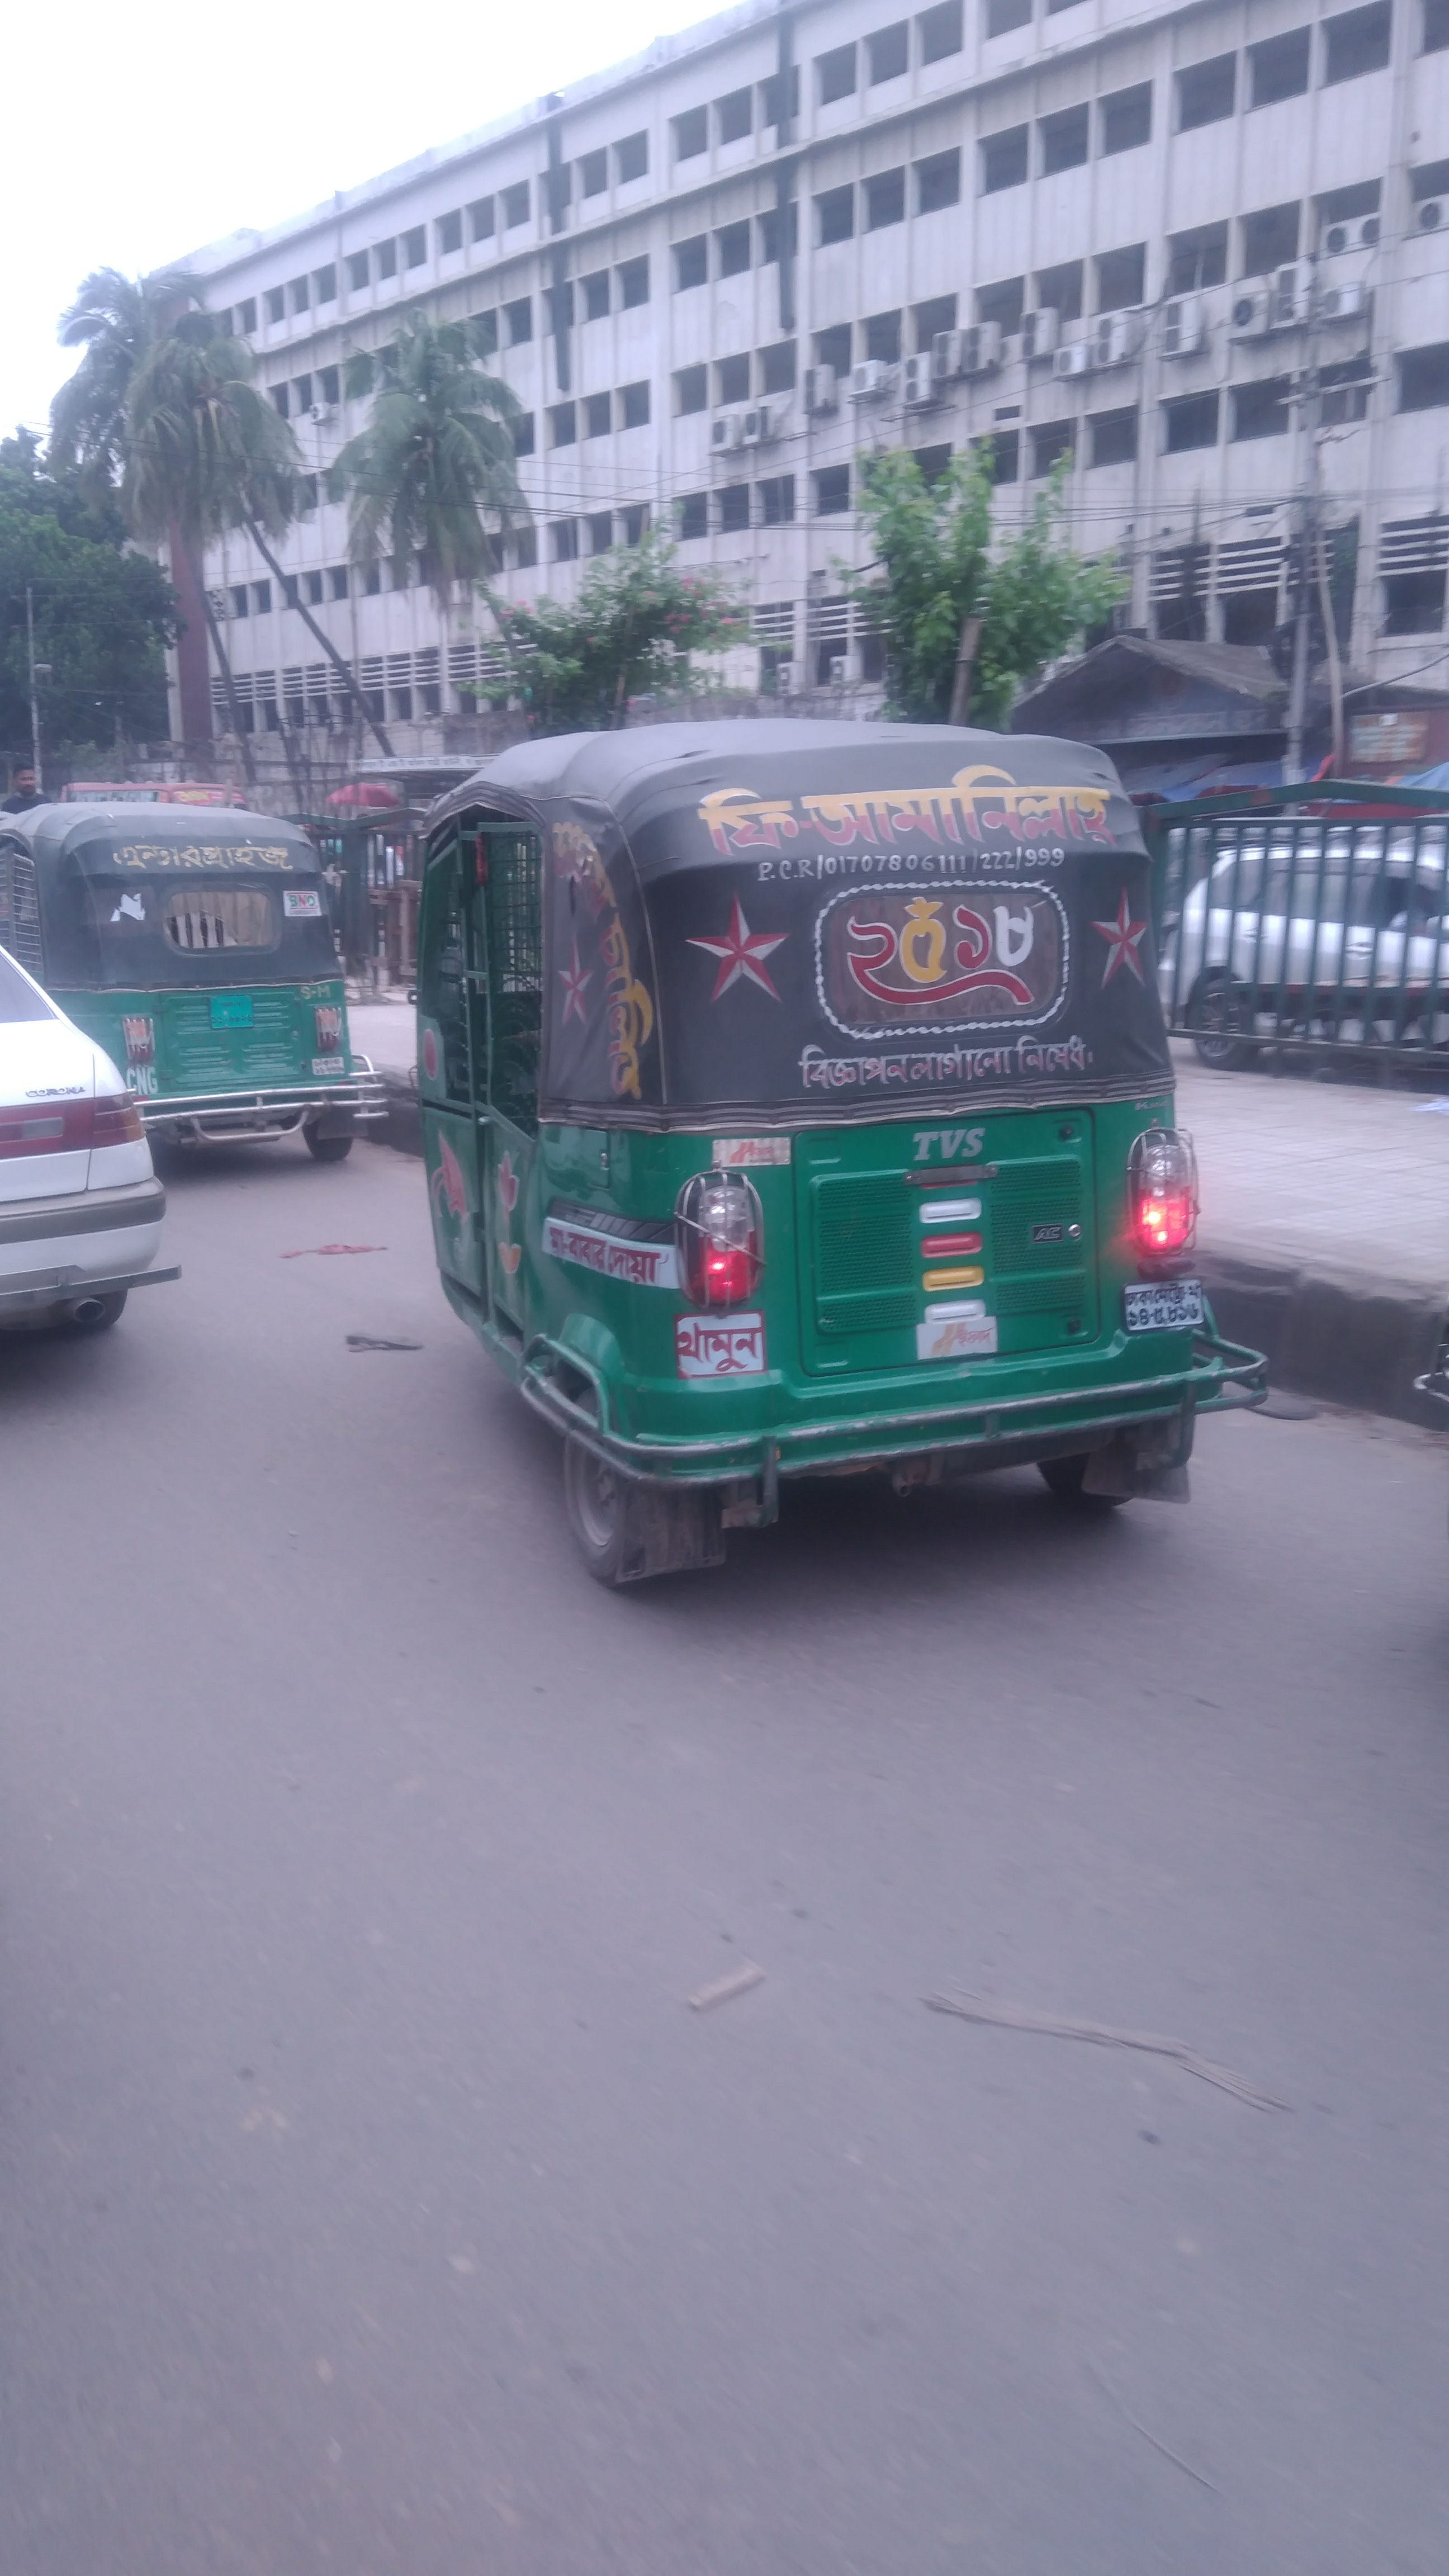car: (1159, 809, 1449, 1088), (0, 909, 180, 1334)
cng: (402, 702, 1258, 1615), (0, 778, 380, 1152)
